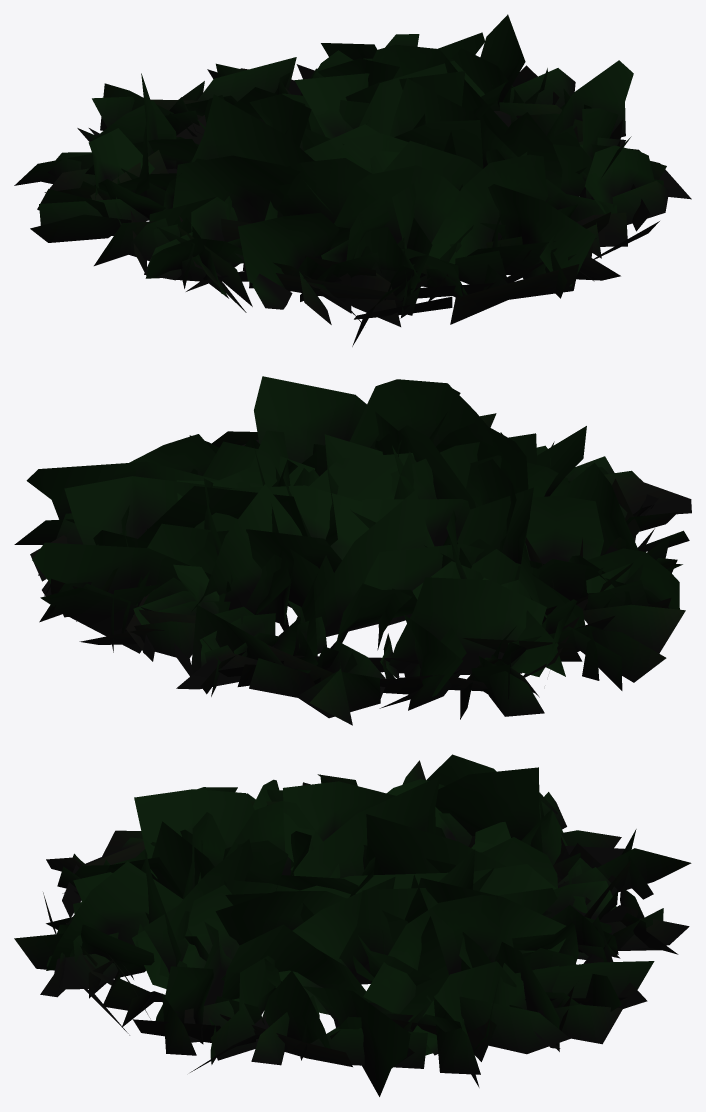
The model's file is GrassMedium_E.fbx.
3 renders of one model, top to bottom at view 1: azimuth 30°, elevation 25°; view 2: azimuth 150°, elevation 25°; view 3: azimuth 270°, elevation 25°, orthographic. The views are drawn at different scales.
Visible parts, largest first — view 1: GrassMedium_E_LOD0; view 2: GrassMedium_E_LOD0; view 3: GrassMedium_E_LOD0.
Part boxes in pixels (box(x1,y1,x2,y2)): GrassMedium_E_LOD0: box(14, 14, 691, 346); GrassMedium_E_LOD0: box(14, 376, 691, 725); GrassMedium_E_LOD0: box(14, 754, 691, 1096).
Size of what is drawn, in the model's own units: 2.99 by 0.6318 by 2.75.
